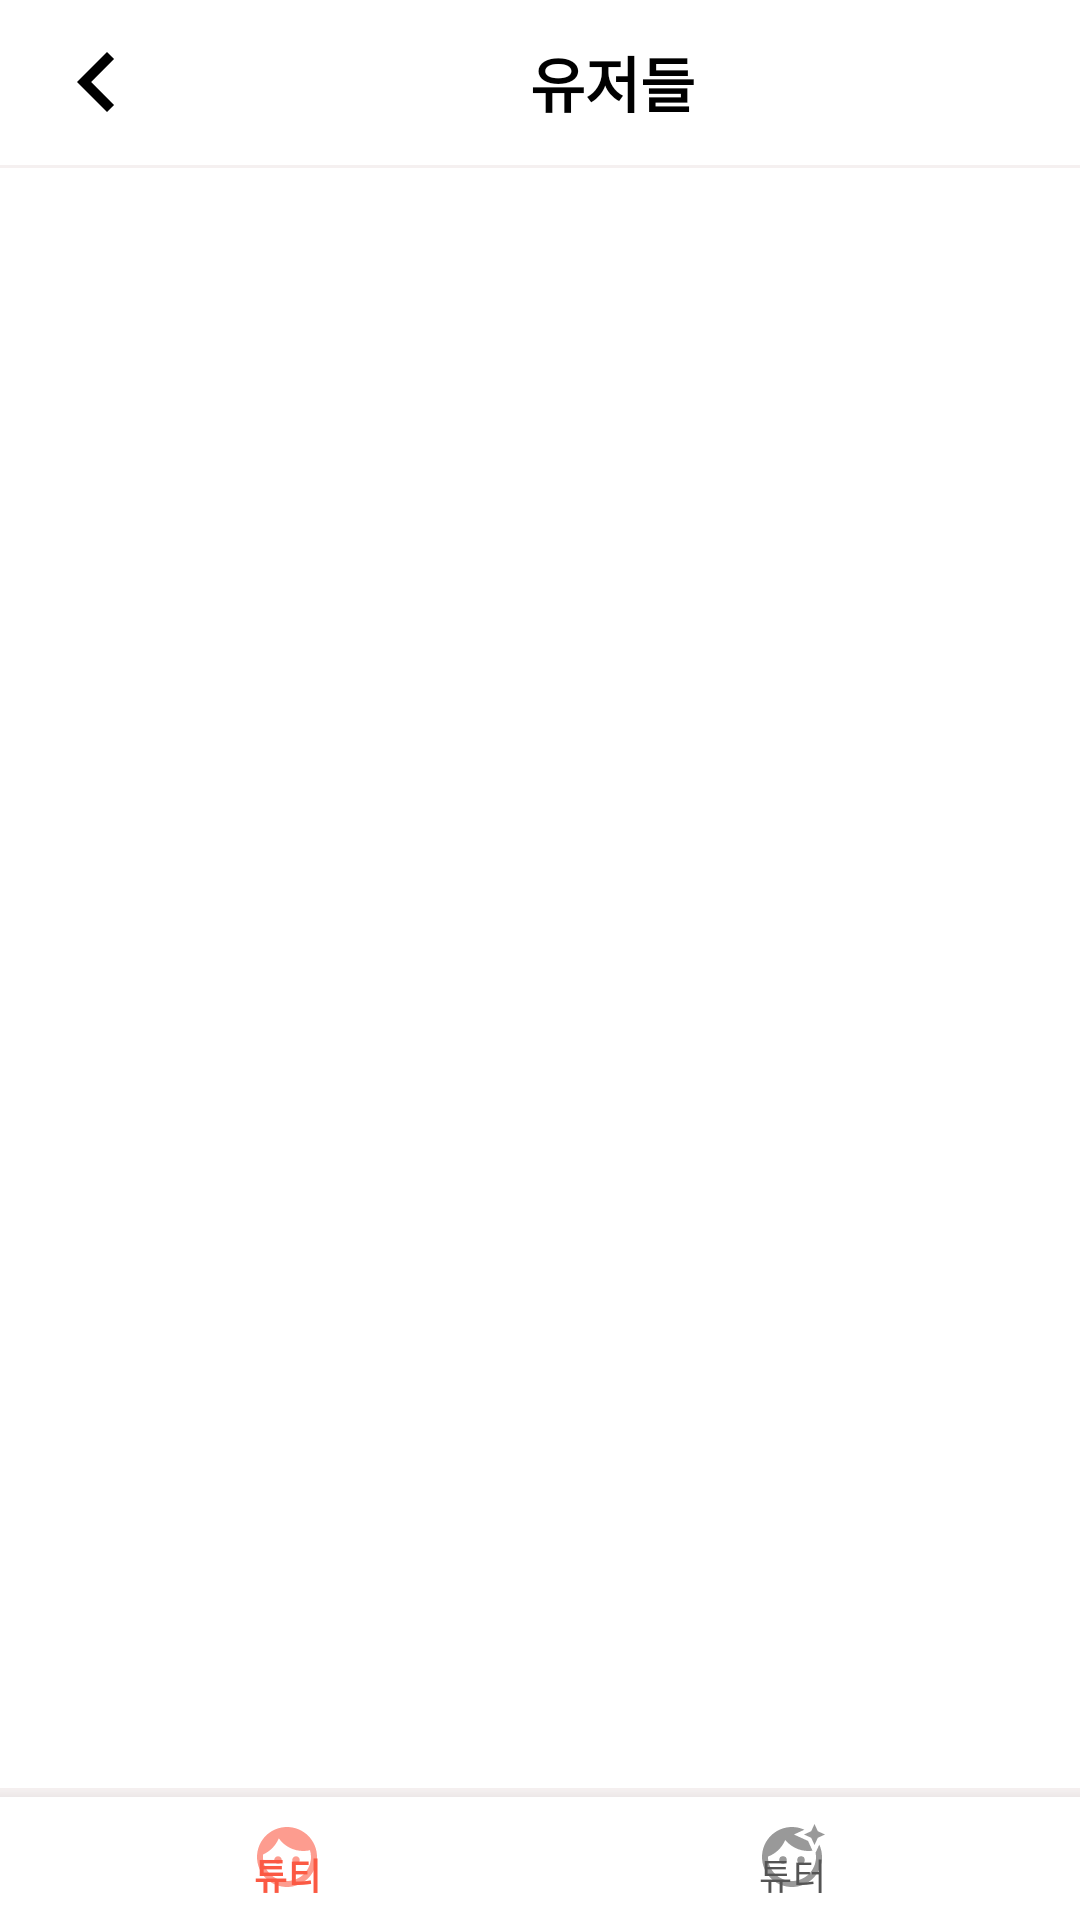

Screen size 1080w x 1920h. Icon name, then its center in pixels as (x,y):
navigate before: (95,82)
